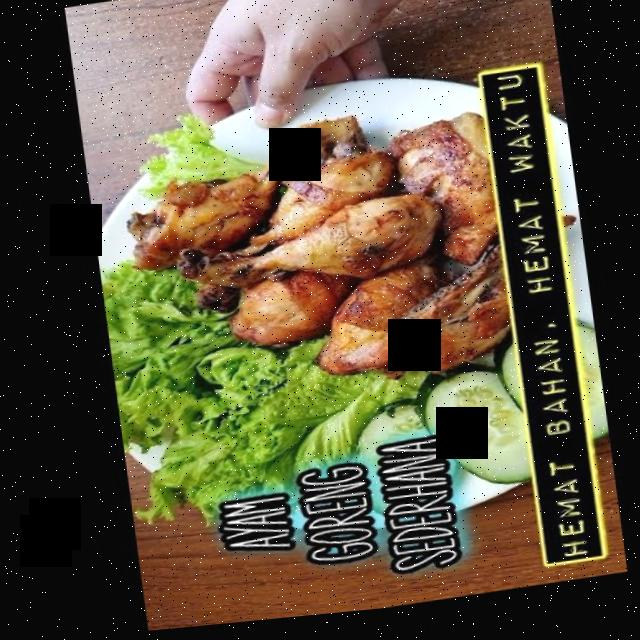Frango: (116, 122, 374, 275), (174, 151, 410, 313), (381, 110, 573, 262), (172, 198, 447, 304), (379, 246, 549, 383), (219, 231, 401, 355), (298, 262, 454, 390)
